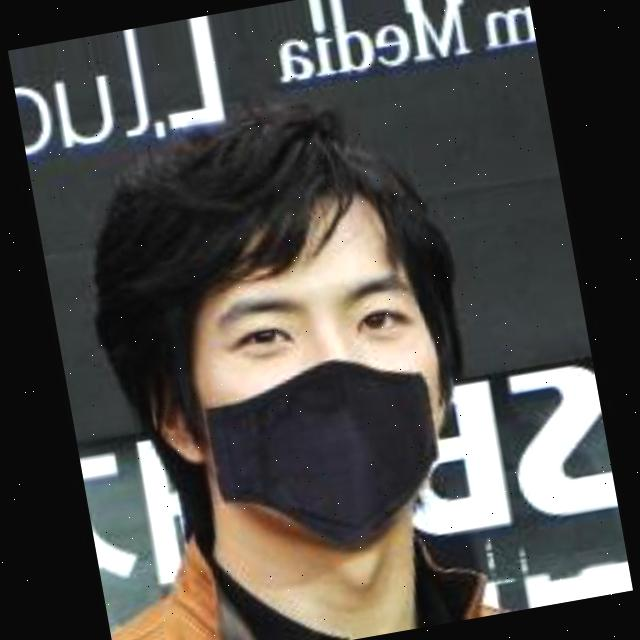suspicion: (77, 132, 506, 583)
